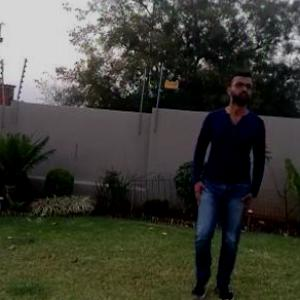follow: (181, 68, 262, 294)
